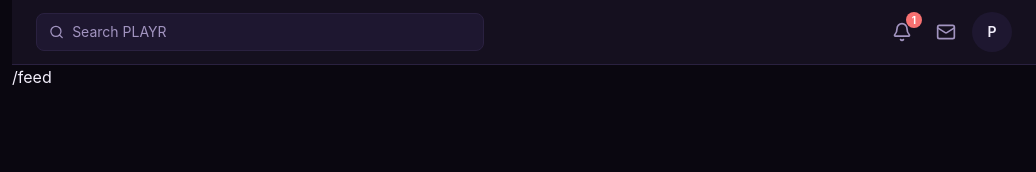
Test: TopBar › opens the post from a followed-user post notification
This screenshot has width=1036, height=172.
Click the button named "Notifications". click: (902, 32)
box: [884,14,920,50]
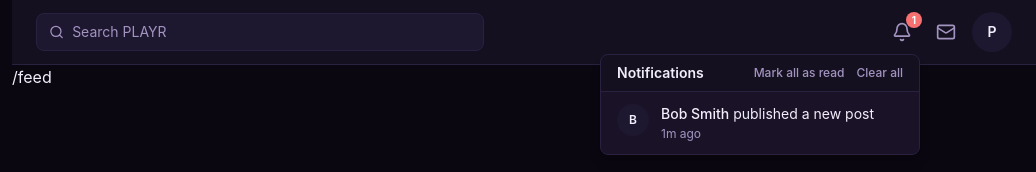
Click the button "B Bob Smith published a new post 1m ago". click: (760, 123)
box: [601,92,919,154]
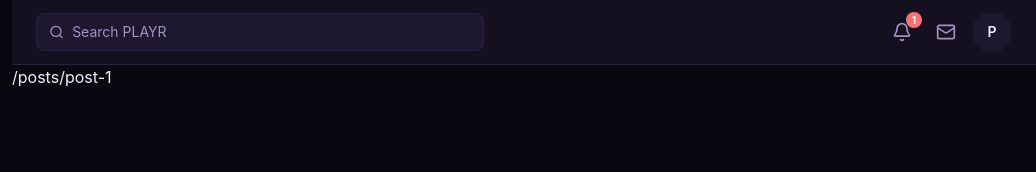
Result: the text with test id "location" reads "/posts/post-1" at [12,67,112,87]
